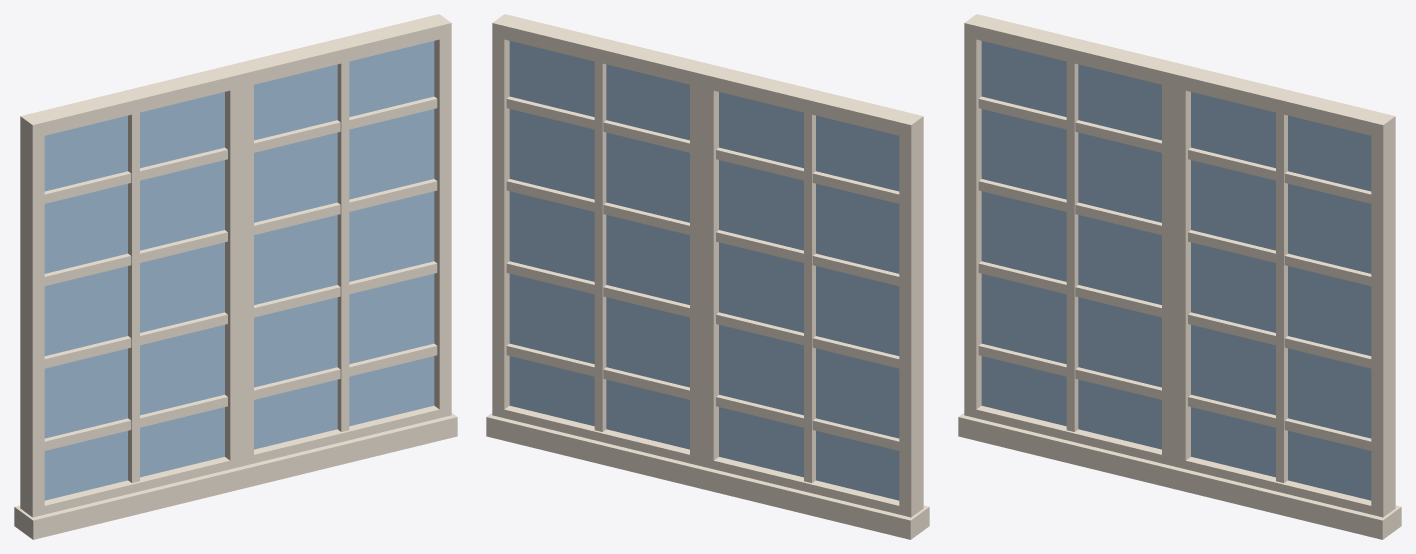
The model's file is window-large.glb.
3 renders of one model, left to right at view 1: azimuth 30°, elevation 25°; view 2: azimuth 150°, elevation 25°; view 3: azimuth 330°, elevation 25°, orthographic.
Parts seen in each view (by area): view 1: Window_Large2; view 2: Window_Large2; view 3: Window_Large2.
Boxes of the visible parts, x1,y1,x2,y2 form: Window_Large2: (14,14,457,539); Window_Large2: (486,14,929,539); Window_Large2: (958,14,1401,539).
Size of the model in its own units: 1.83 by 1.7 by 0.1411.
